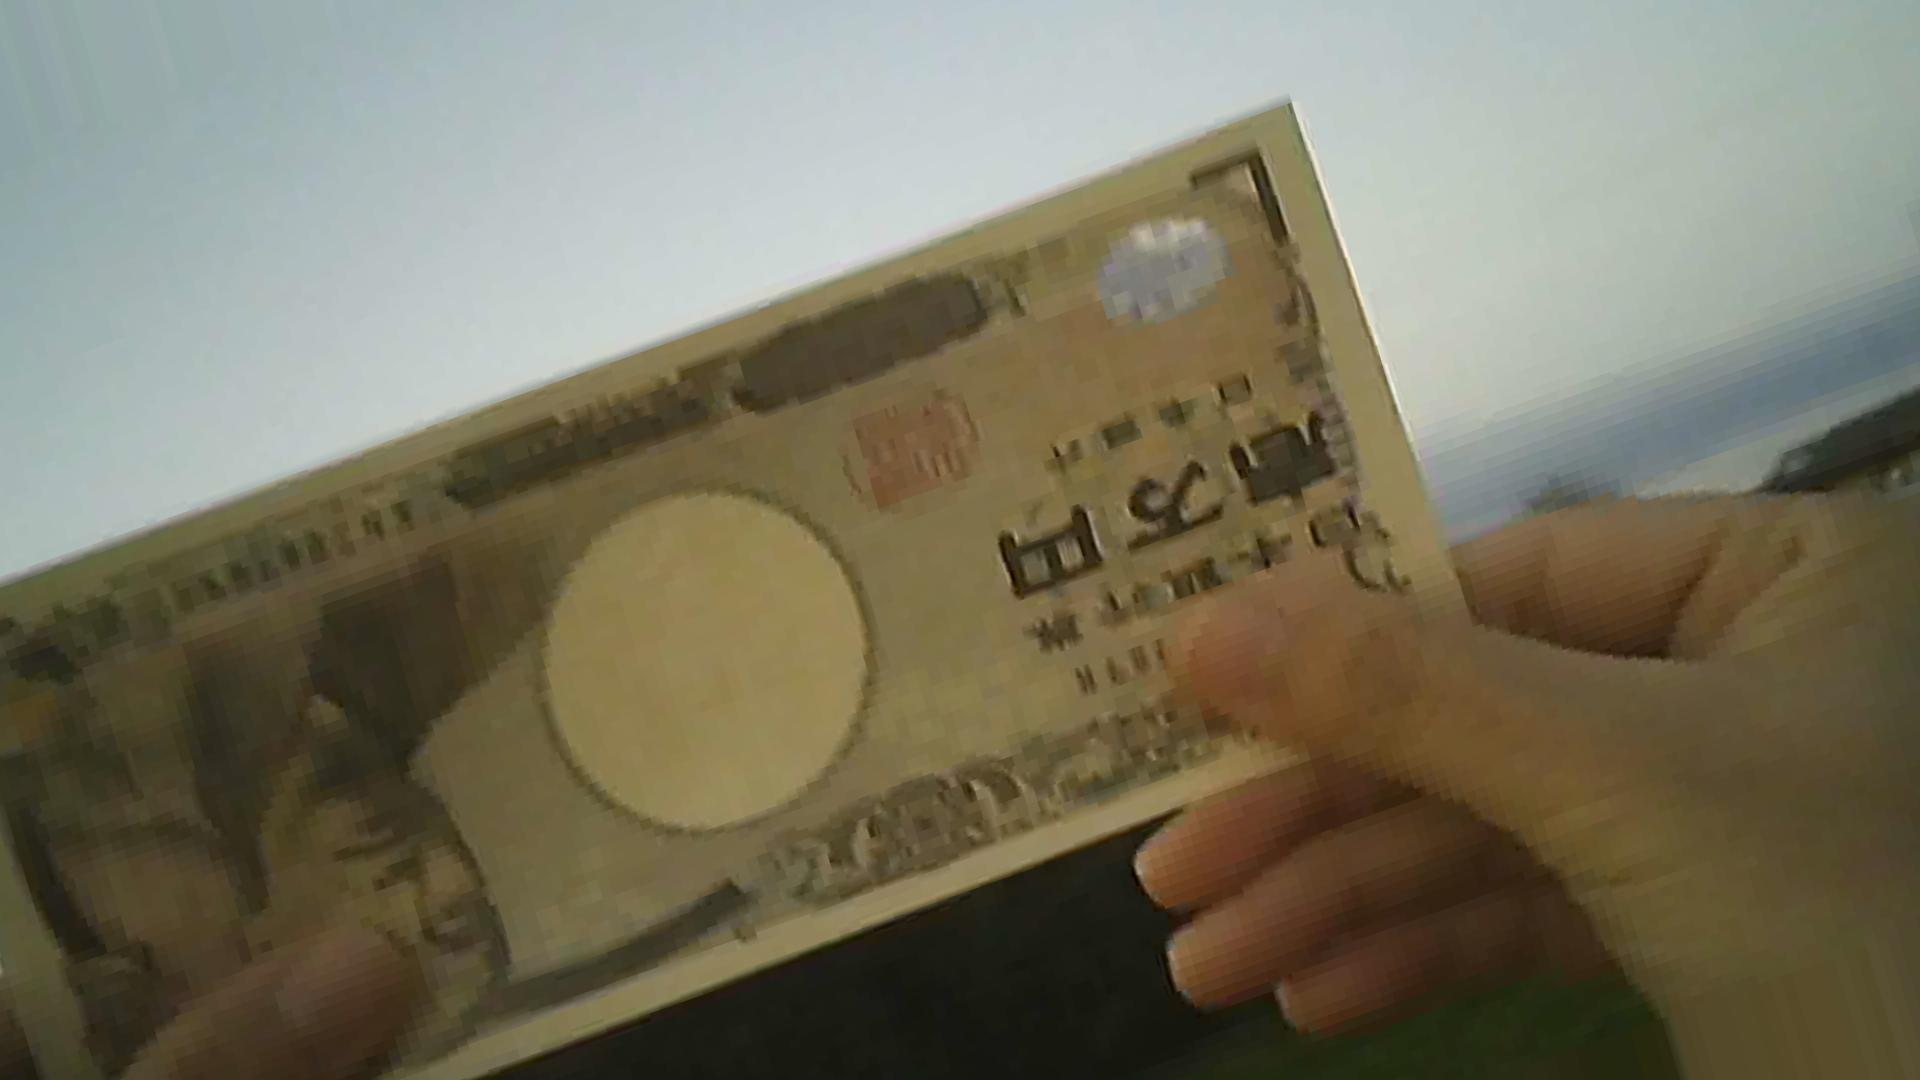10,000 Yen: (50, 83, 1470, 1062)
